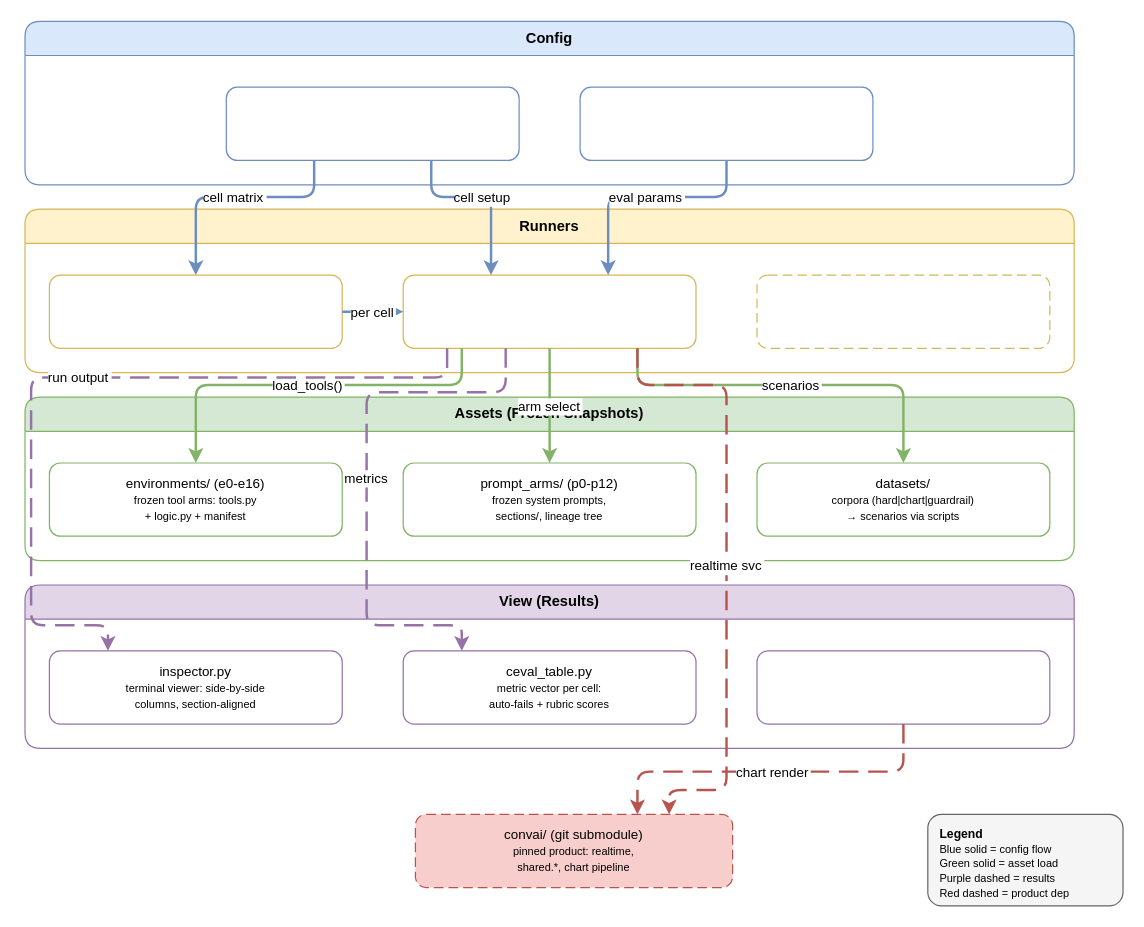
The diagram is 1144 pixels wide and 927 high, and some of its shapes have lost their labels. Each missing label, with the centre of its shape:
eval_params.py named param sets: battery, depth, persona-db, judge: the point at 726,123
prompt_runner.py (legacy) one cell, manages realtime subprocess directly: the point at 903,311
run_ceval.py boot realtime + ceval per cell, record provenance: the point at 549,311
setups/*.json one JSON per cell: prompt arm + env + realtime overrides: the point at 372,123
sweep.py eval-params x cells matrix, keep-going, prints table: the point at 195,311
view/app/ (React+Vite) web viewer: real chart components from product: the point at 903,687
